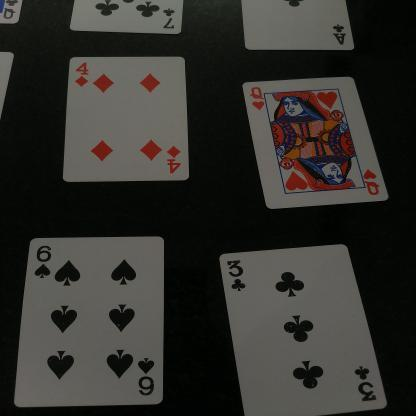3C: (354, 365, 379, 403)
4D: (67, 54, 104, 96), (165, 144, 185, 174)
6S: (135, 356, 162, 400), (34, 239, 53, 282)
QH: (240, 84, 274, 125), (219, 258, 250, 298), (360, 163, 382, 198)
